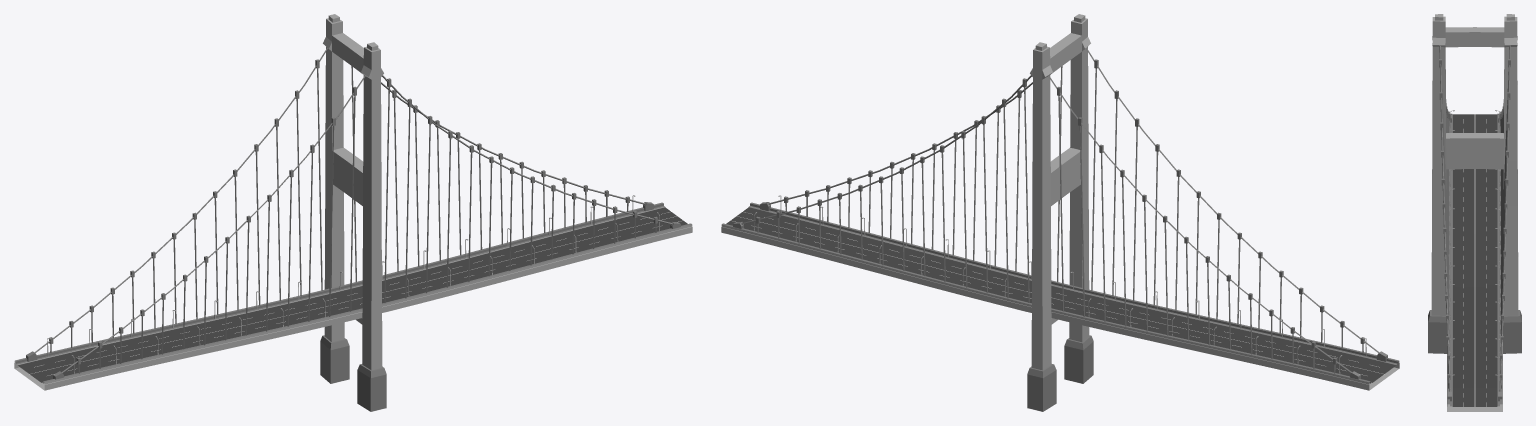
File: Highway Bridge 1.fbx
3 renders of one model, left to right at view 1: azimuth 30°, elevation 25°; view 2: azimuth 150°, elevation 25°; view 3: azimuth 270°, elevation 25°, orthographic. The views are drawn at different scales.
Parts seen in each view (by area): view 1: Highway_Bridge_1; view 2: Highway_Bridge_1; view 3: Highway_Bridge_1.
Boxes of the visible parts, x1,y1,x2,y2 form: Highway_Bridge_1: [14, 14, 692, 411]; Highway_Bridge_1: [721, 14, 1399, 411]; Highway_Bridge_1: [1428, 14, 1521, 411].
Bounding box in the file's own units: 15500 × 8252 × 2098.
Materials: 2 (2 with a texture image).
